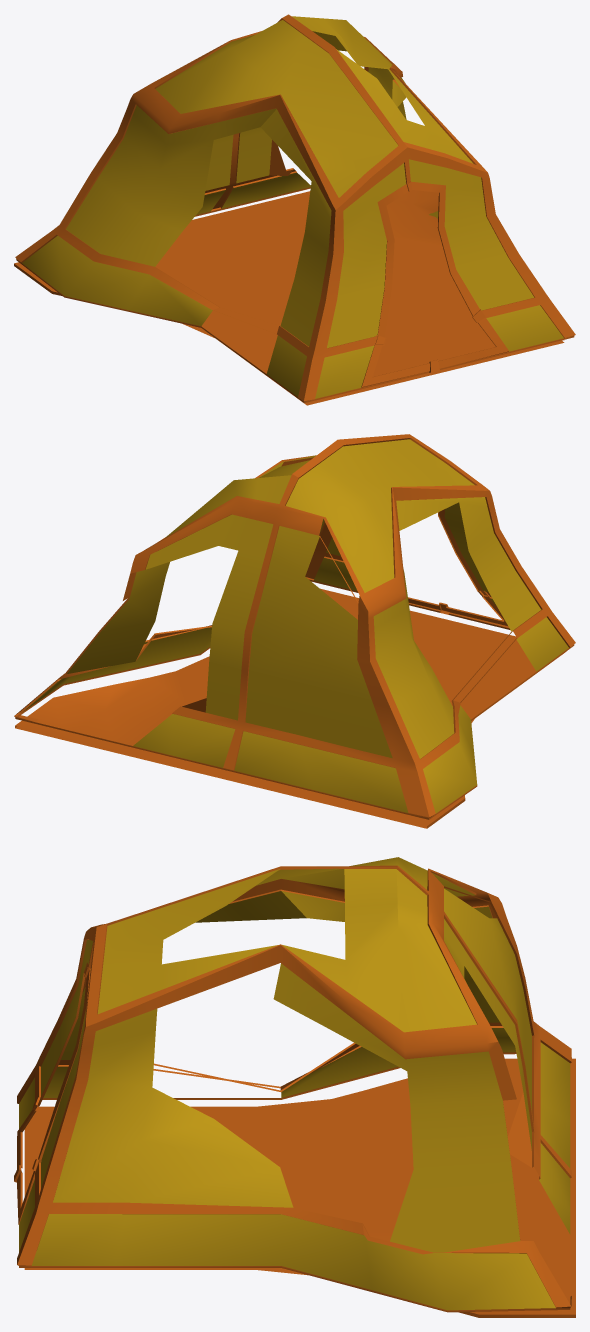
The model's file is 1Campsite.fbx.
3 renders of one model, top to bottom at view 1: azimuth 30°, elevation 25°; view 2: azimuth 150°, elevation 25°; view 3: azimuth 270°, elevation 25°, orthographic. The views are drawn at different scales.
Visible parts, largest first — view 1: Cube_1; view 2: Cube_1; view 3: Cube_1.
Part boxes in pixels (x1,y1,x2,y2): Cube_1: [14, 14, 575, 405]; Cube_1: [14, 434, 575, 828]; Cube_1: [14, 857, 575, 1317].
Bounding box in the file's own units: 552 × 323 × 508.
